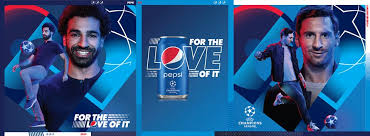Pepsi: (157, 34, 190, 103)
